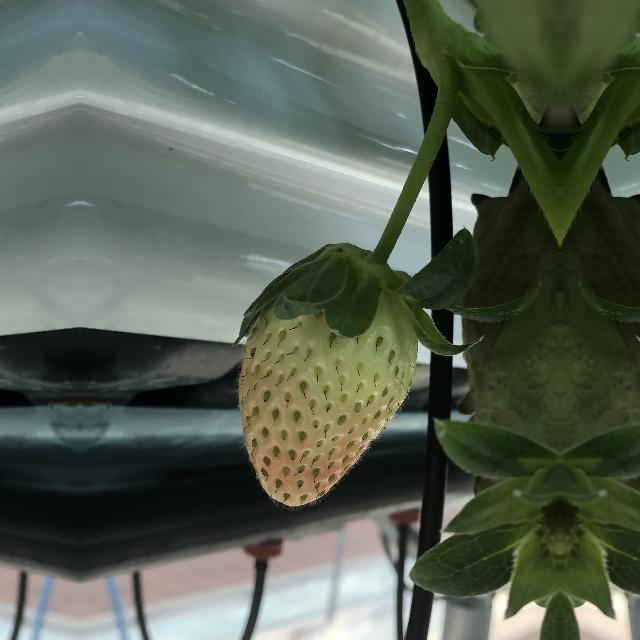Health_50: (233, 254, 421, 510)
